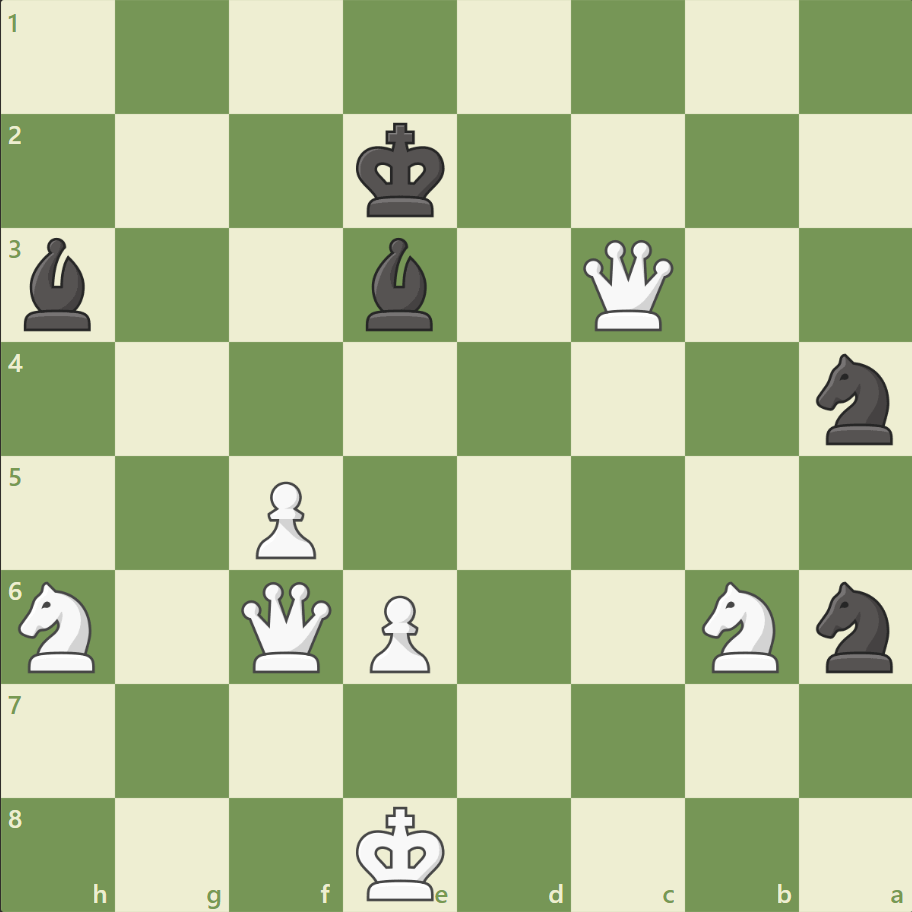K: (351, 798, 451, 906)
N: (692, 575, 789, 677), (11, 575, 108, 677)
P: (247, 473, 322, 564), (361, 586, 435, 677)
Q: (237, 576, 336, 676), (578, 236, 677, 335)
b: (358, 233, 442, 336), (17, 233, 101, 336)
k: (351, 117, 451, 225)
n: (806, 575, 903, 677), (806, 348, 903, 450)
